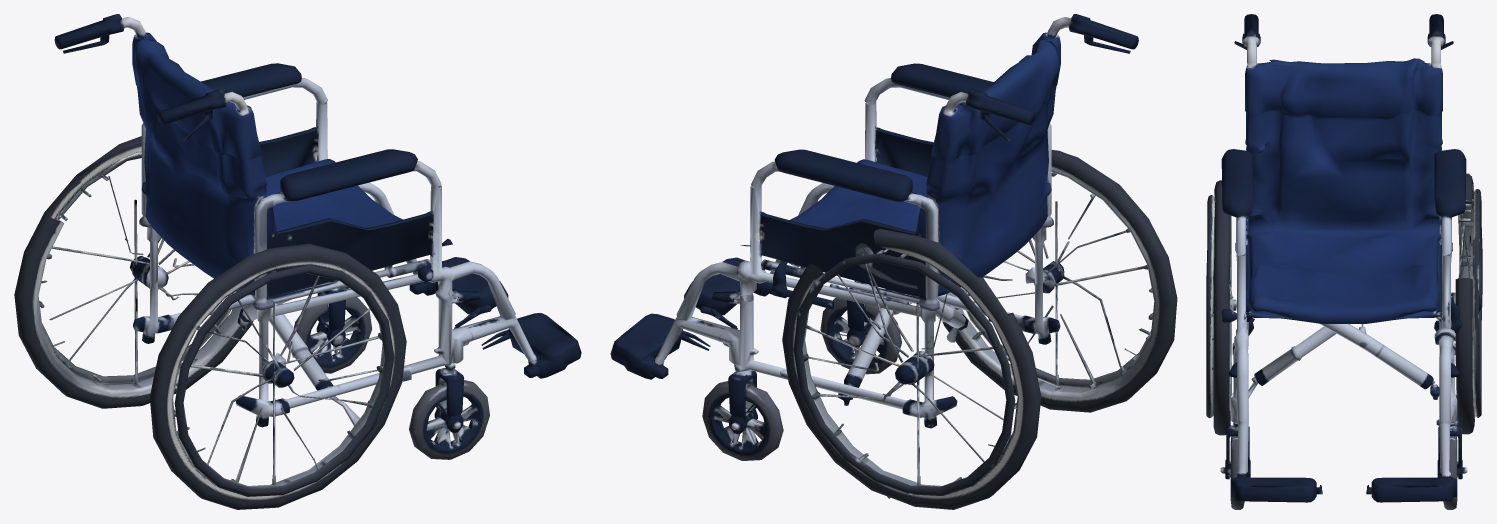
File: wheelchair.glb
3 views of the same model, side by side, from view 1: azimuth 30°, elevation 25°; view 2: azimuth 150°, elevation 25°; view 3: azimuth 270°, elevation 25° (orthographic). The views are drawn at different scales.
Parts seen in each view (by area): view 1: tripo_node_0dbf2ed8-ae76-4b06-9f0e-680dc42713ed; view 2: tripo_node_0dbf2ed8-ae76-4b06-9f0e-680dc42713ed; view 3: tripo_node_0dbf2ed8-ae76-4b06-9f0e-680dc42713ed.
Boxes of the visible parts, left/top/right/bottom form: tripo_node_0dbf2ed8-ae76-4b06-9f0e-680dc42713ed: left=14, top=14, right=581, bottom=509; tripo_node_0dbf2ed8-ae76-4b06-9f0e-680dc42713ed: left=610, top=14, right=1177, bottom=509; tripo_node_0dbf2ed8-ae76-4b06-9f0e-680dc42713ed: left=1206, top=14, right=1482, bottom=509.
Bounding box in the file's own units: 1 × 0.8982 × 0.5988.
1 material, 1 textured.
